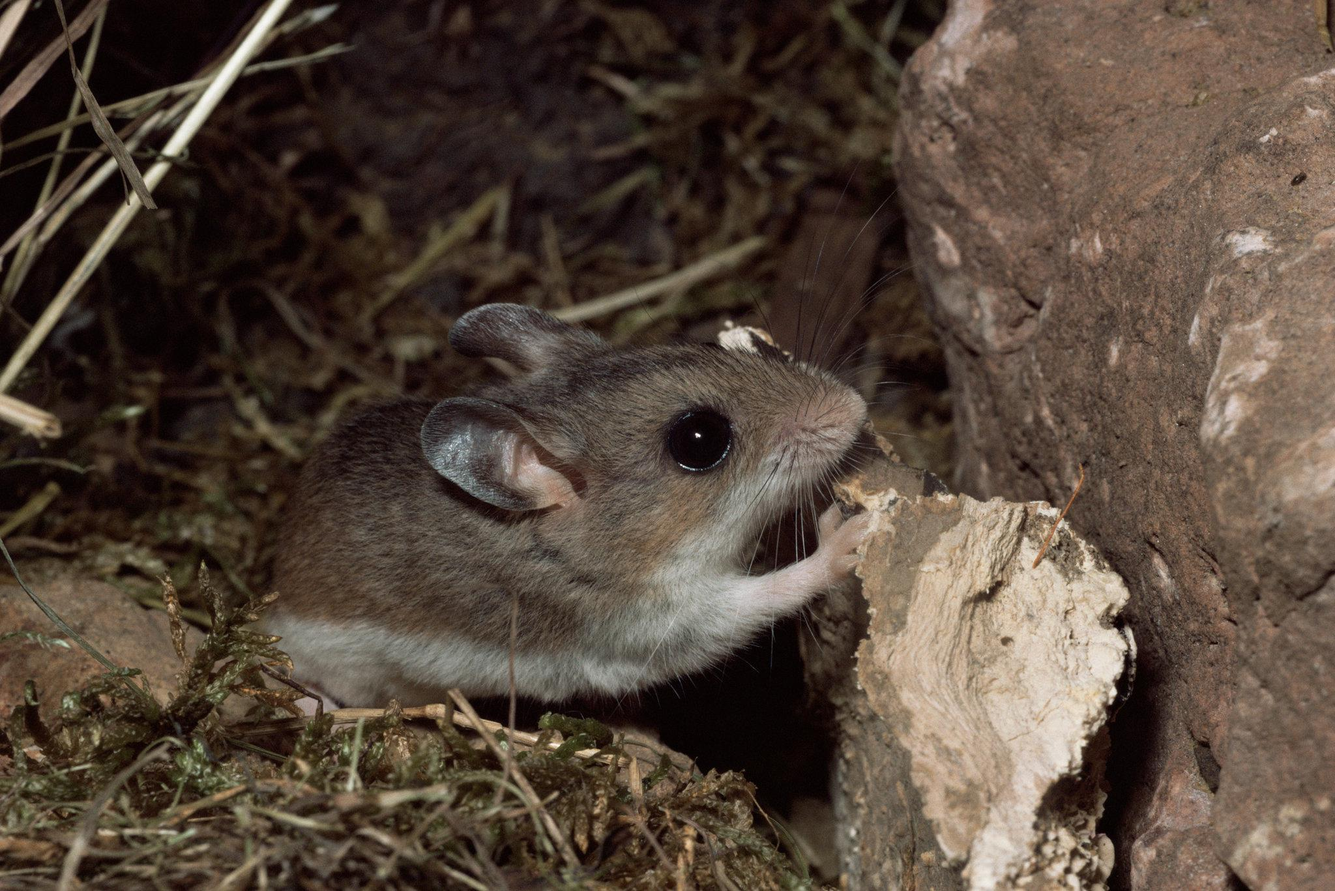rat: (268, 303, 872, 712)
